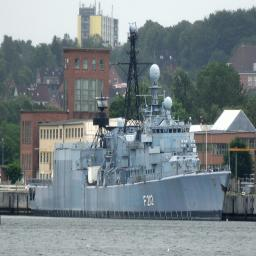Fragata: (27, 20, 236, 224)
